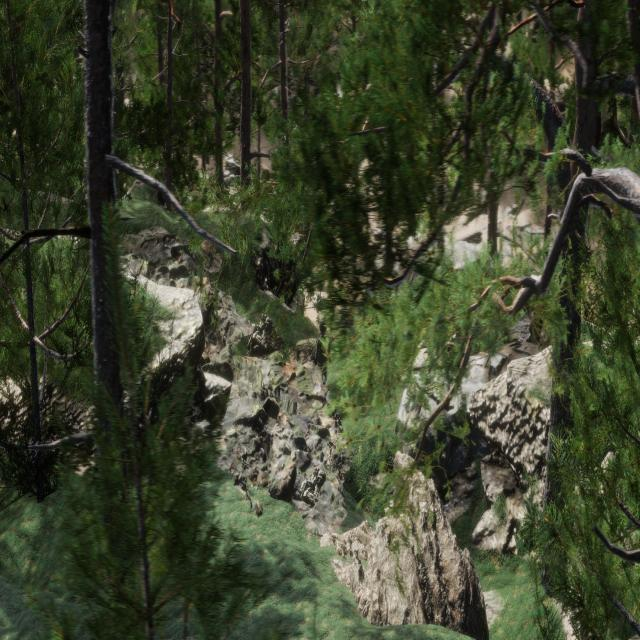Human: (315, 309, 337, 401)
